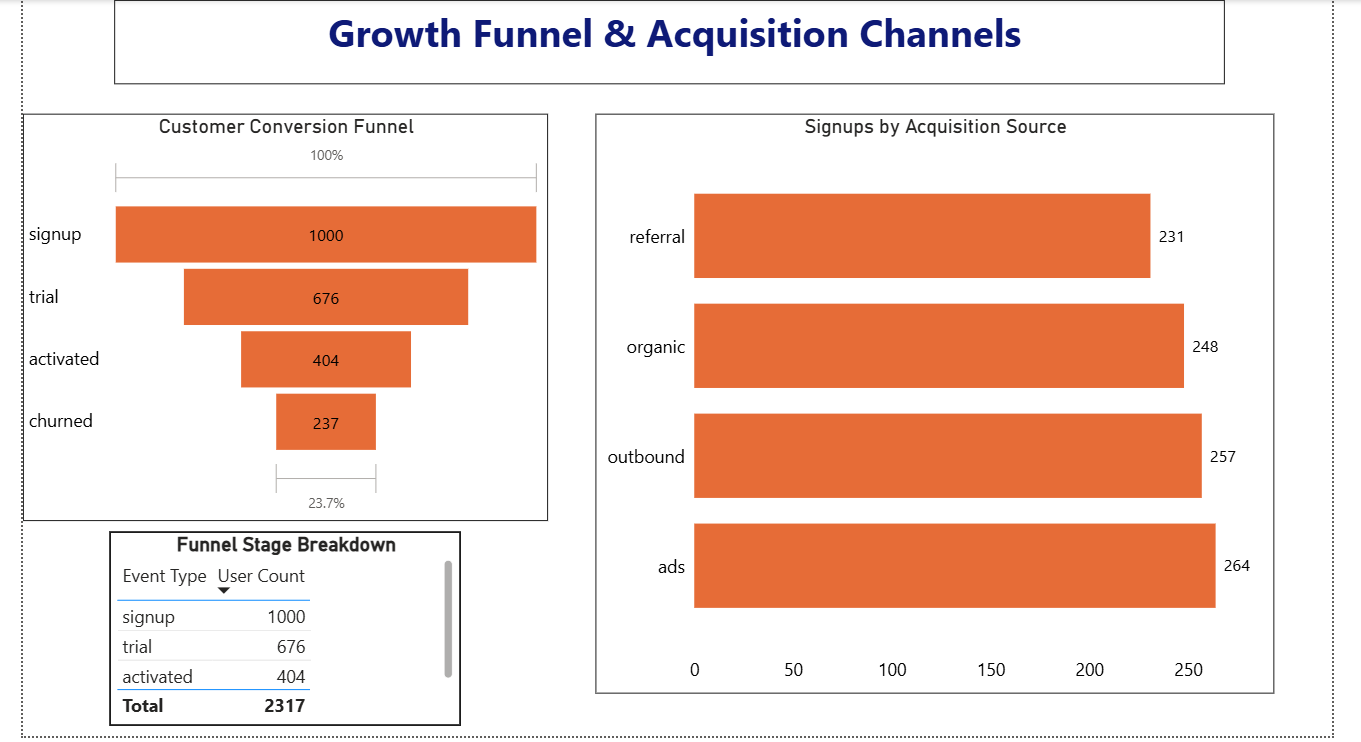

What the dashboard file says about the page in this screenshot:
{"tool":"powerbi","page":{"name":"Funnel & Acquisition","canvas":[1280,720],"ordinal":1},"visuals":[{"type":"textbox","box":[89.2,0,1086.8,82.3],"z":0},{"type":"funnel","title":"Customer Conversion Funnel","fields":{"Category":["Funnel_Count.event_type"],"Y":["Sum(Funnel_Count.users)"]},"box":[0,111.3,513.6,398.6],"z":1000},{"type":"barChart","title":"Signups by Acquisition Source","fields":{"Category":["source_breakdown.source"],"Y":["Sum(source_breakdown.users)"]},"box":[560.1,111.3,664,567.4],"z":2000},{"type":"tableEx","title":"Funnel Stage Breakdown","fields":{"Values":["Funnel_Count.event_type","Sum(Funnel_Count.users)"]},"box":[84.4,519.7,343.6,190.8],"z":2001}]}

Visuals, with their boxes in screenshot pixels (x1, y1, x2, y2):
textbox: [112, 0, 1214, 84]
"Customer Conversion Funnel" funnel: [21, 113, 542, 517]
"Signups by Acquisition Source" barChart: [590, 113, 1263, 689]
"Funnel Stage Breakdown" tableEx: [107, 527, 456, 721]
